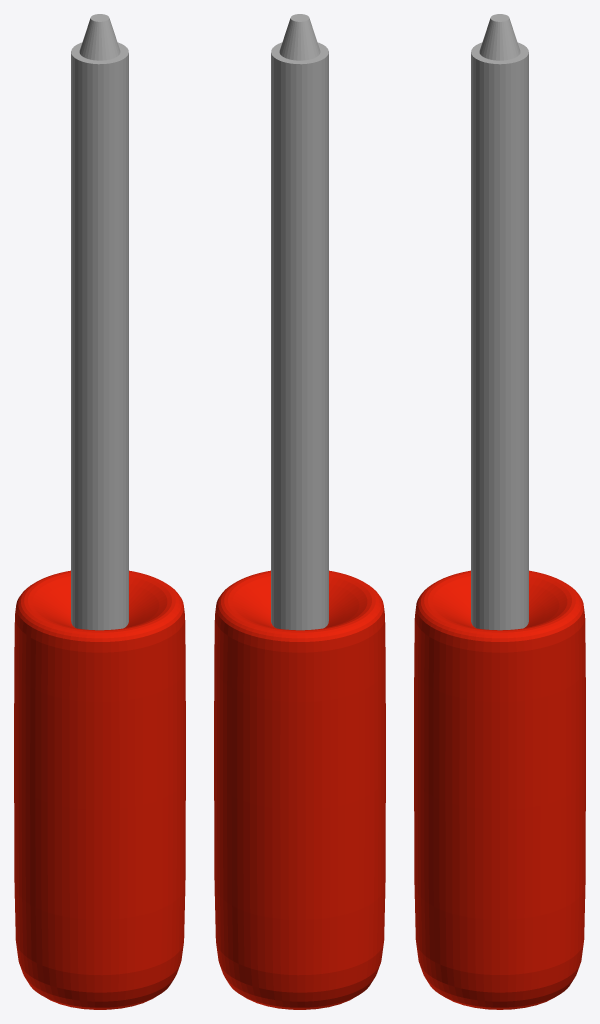
Rendered from screwdriver.fbx.
The picture shows the model from 3 angles, left to right: view 1: azimuth 30°, elevation 25°; view 2: azimuth 150°, elevation 25°; view 3: azimuth 270°, elevation 25°; orthographic projection.
Visible parts, largest first — view 1: Cylinder, Cylinder.001; view 2: Cylinder, Cylinder.001; view 3: Cylinder, Cylinder.001.
Boxes of the visible parts, x1,y1,x2,y2 form: Cylinder: (14, 570, 185, 1009); Cylinder.001: (71, 14, 128, 630); Cylinder: (214, 570, 385, 1009); Cylinder.001: (271, 14, 328, 630); Cylinder: (414, 570, 585, 1009); Cylinder.001: (471, 14, 528, 630).
Size of the model in its own units: 26.97 by 168 by 26.97.
